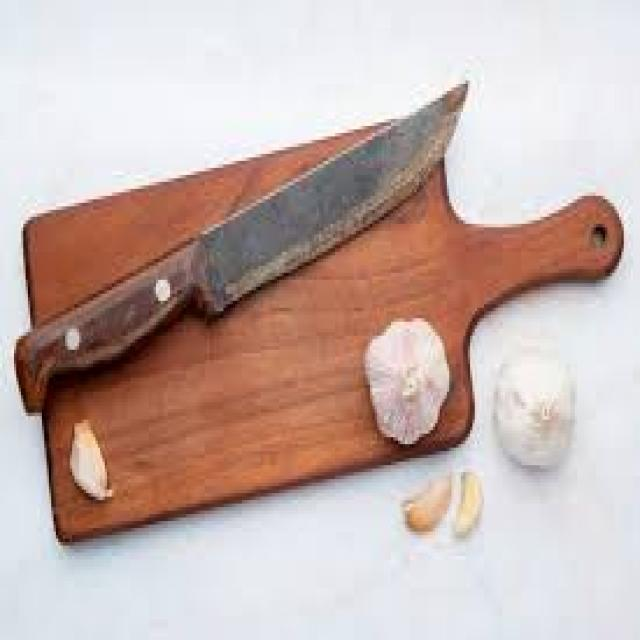Knife: (12, 77, 470, 413)
